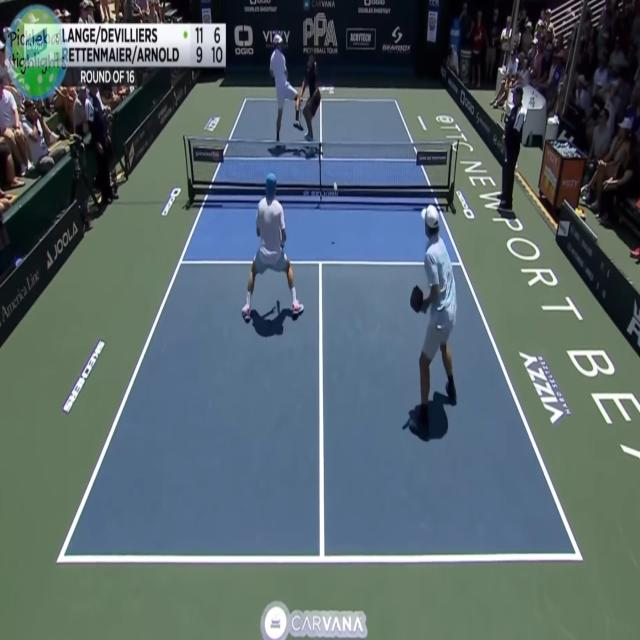ball: (332, 180, 340, 190)
